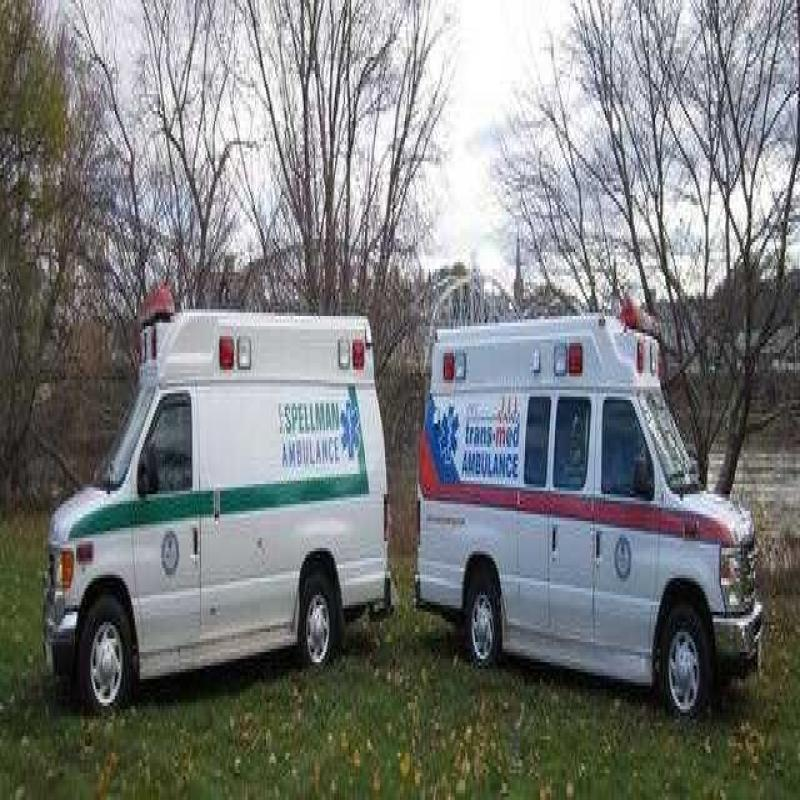AmbulanceSiren: (130, 264, 181, 341), (617, 284, 667, 360)
